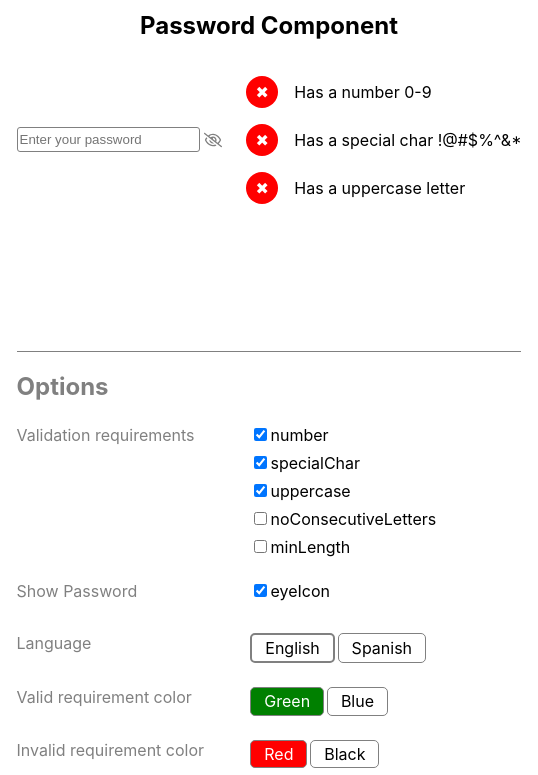
Scenario: Render minimum password length input if enabled
Click the checkbox labelled "minLength" at (261, 546), box [254,540,268,553]
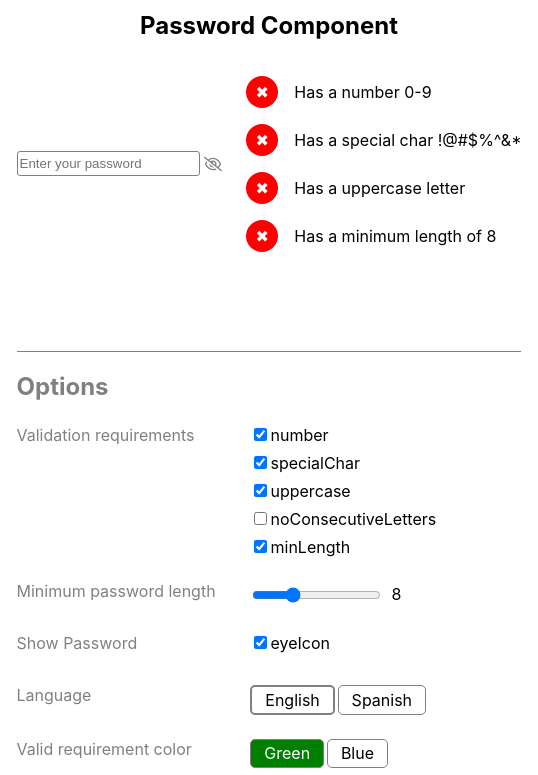
Expected: the heading "Minimum password length" is shown, [16,581,218,601]
